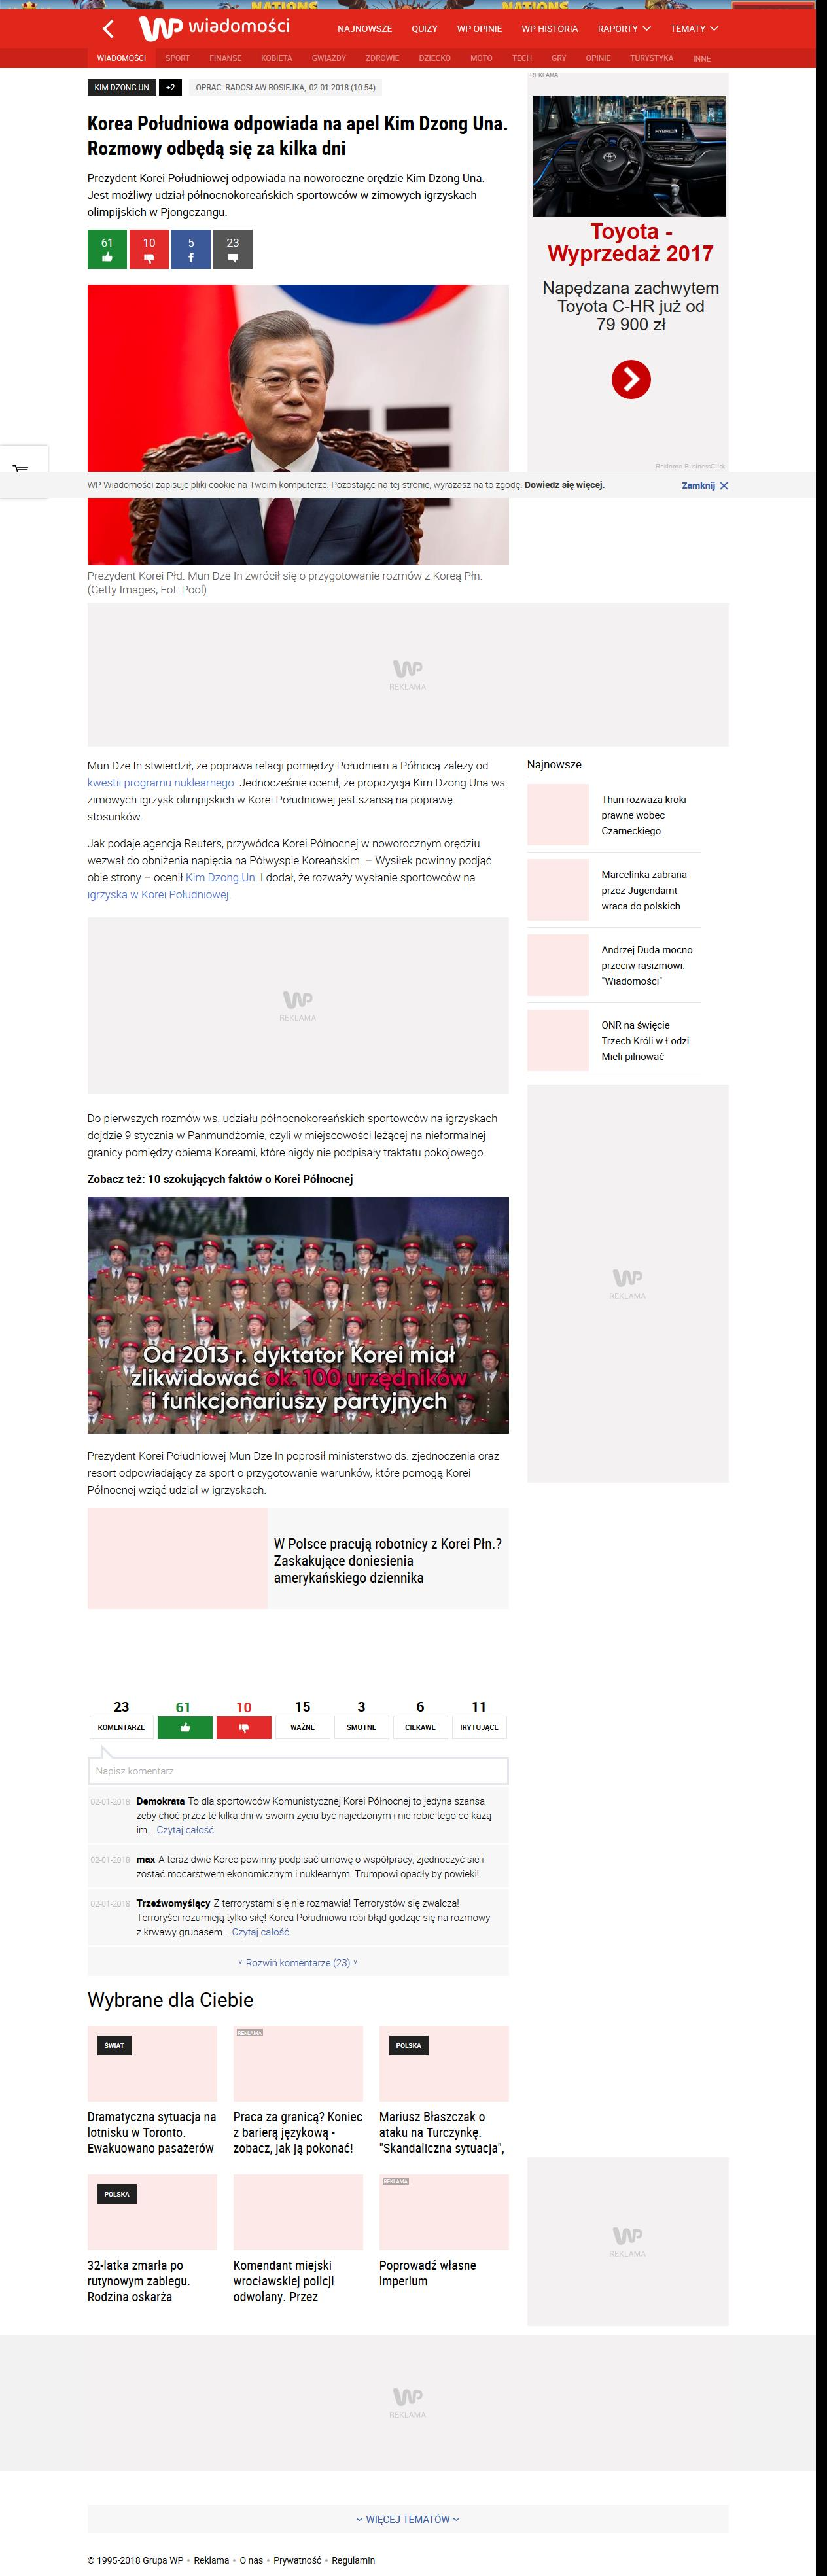title: (87, 113, 508, 161)
